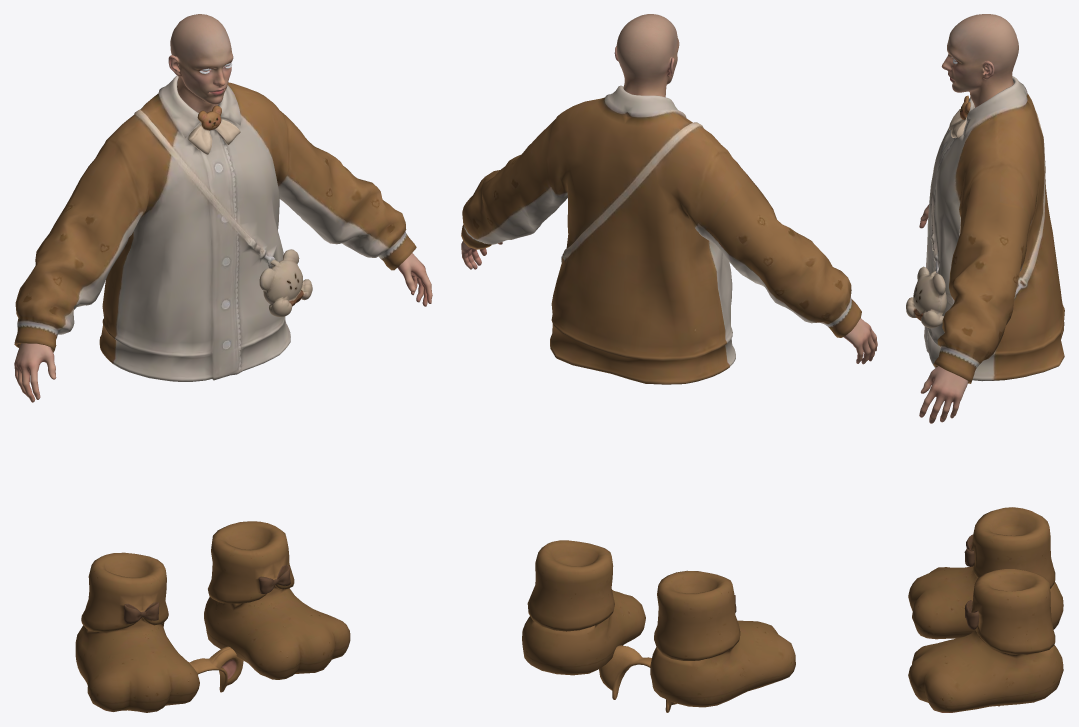
3 views of the same model, side by side, from view 1: azimuth 30°, elevation 25°; view 2: azimuth 150°, elevation 25°; view 3: azimuth 270°, elevation 25° (orthographic).
Parts seen in each view (by area): view 1: GM_Shugo_01_Body, GM_Shugo_01_Boots, GM_BaseHead, GM_Shugo_01_Helmet; view 2: GM_Shugo_01_Body, GM_Shugo_01_Boots, GM_BaseHead, GM_Shugo_01_Helmet; view 3: GM_Shugo_01_Body, GM_Shugo_01_Boots, GM_BaseHead.
Part boxes in pixels (box(x1,y1,x2,y2)): GM_Shugo_01_Body: box(14, 75, 432, 402); GM_Shugo_01_Boots: box(75, 521, 350, 712); GM_BaseHead: box(168, 14, 233, 112); GM_Shugo_01_Helmet: box(188, 646, 243, 692); GM_Shugo_01_Body: box(461, 85, 877, 384); GM_Shugo_01_Boots: box(522, 540, 795, 707); GM_BaseHead: box(614, 14, 679, 97); GM_Shugo_01_Helmet: box(599, 645, 676, 712); GM_Shugo_01_Body: box(906, 76, 1064, 423); GM_Shugo_01_Boots: box(908, 507, 1063, 712); GM_BaseHead: box(941, 14, 1018, 107).
Size of the model in its own units: 1.24 by 2 by 0.4251.
6 materials, 5 textured.
